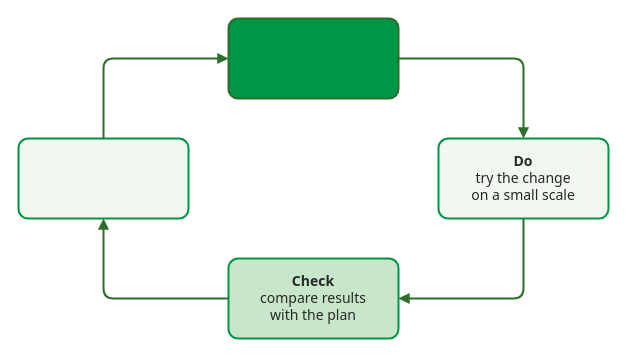
Some shapes in this 626 by 356 pixel diagram are drawn without their labels. The shapes that lost their labels are listed below. From the top down, each one's centre as x and y in pixels, then its label:
At [313,58]: "Plan state the problem and the change".
At [103,178]: "Act adopt, adjust or abandon".
